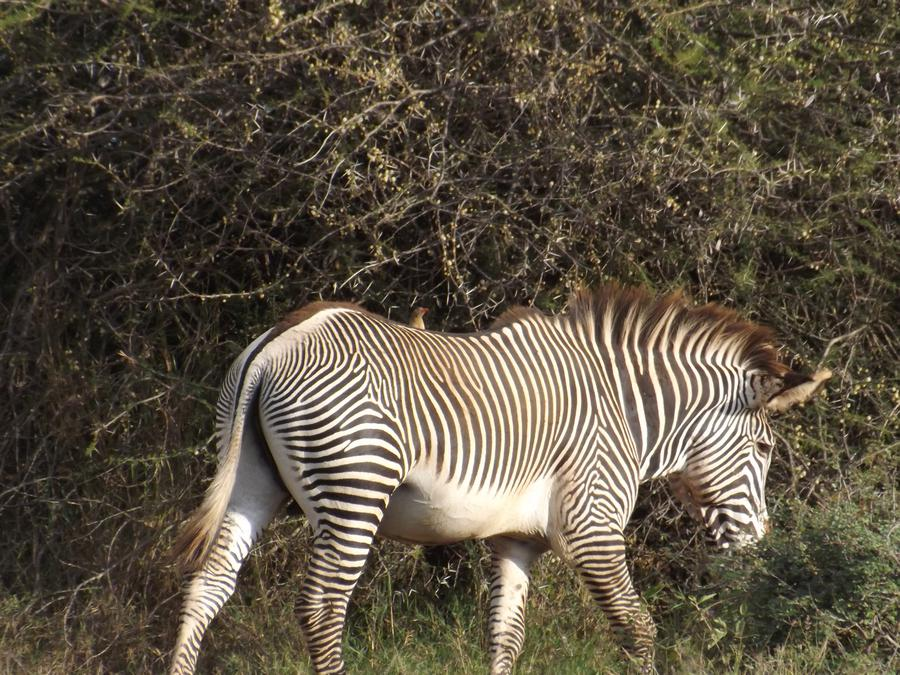zebra_grevys: (220, 292, 632, 533)
